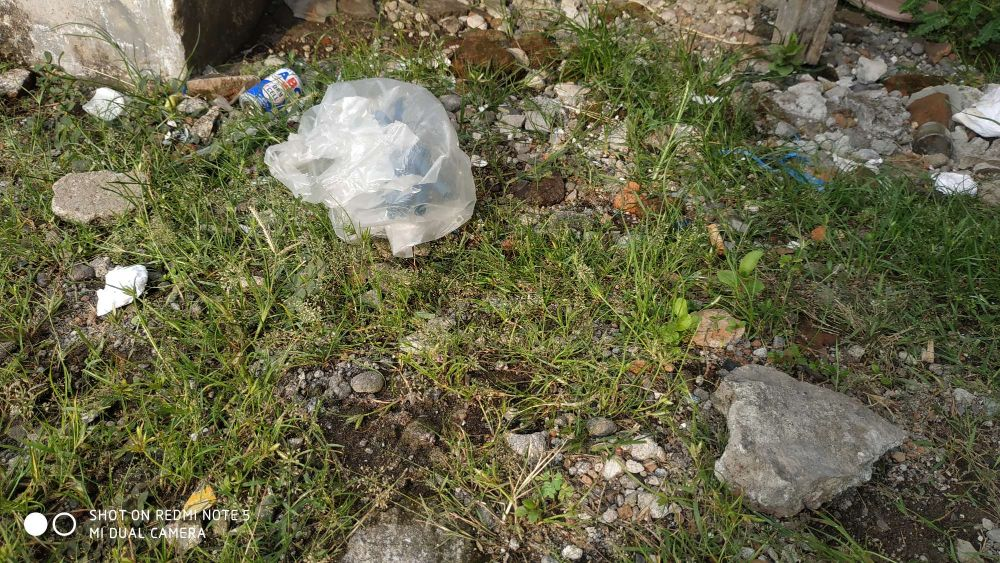plastik: (268, 69, 497, 265)
